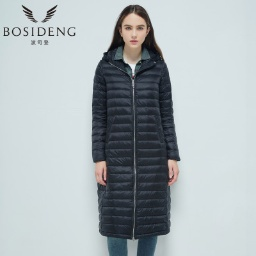face: (110, 3, 153, 52)
